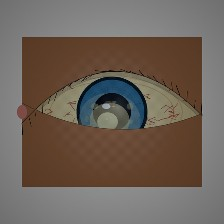corneal_ulcer: (77, 95, 142, 147)
